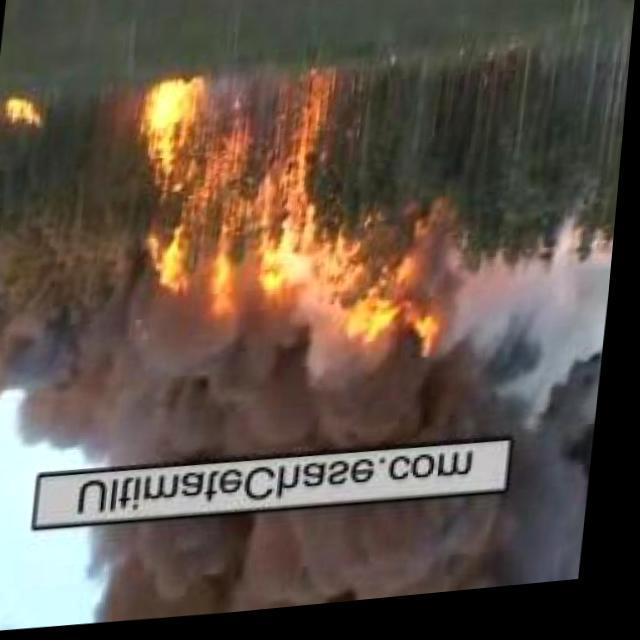fire: (130, 58, 334, 318), (342, 228, 470, 364), (4, 91, 54, 145)
